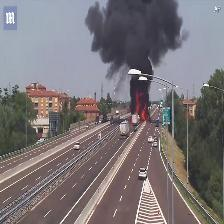fire: (130, 89, 151, 123)
